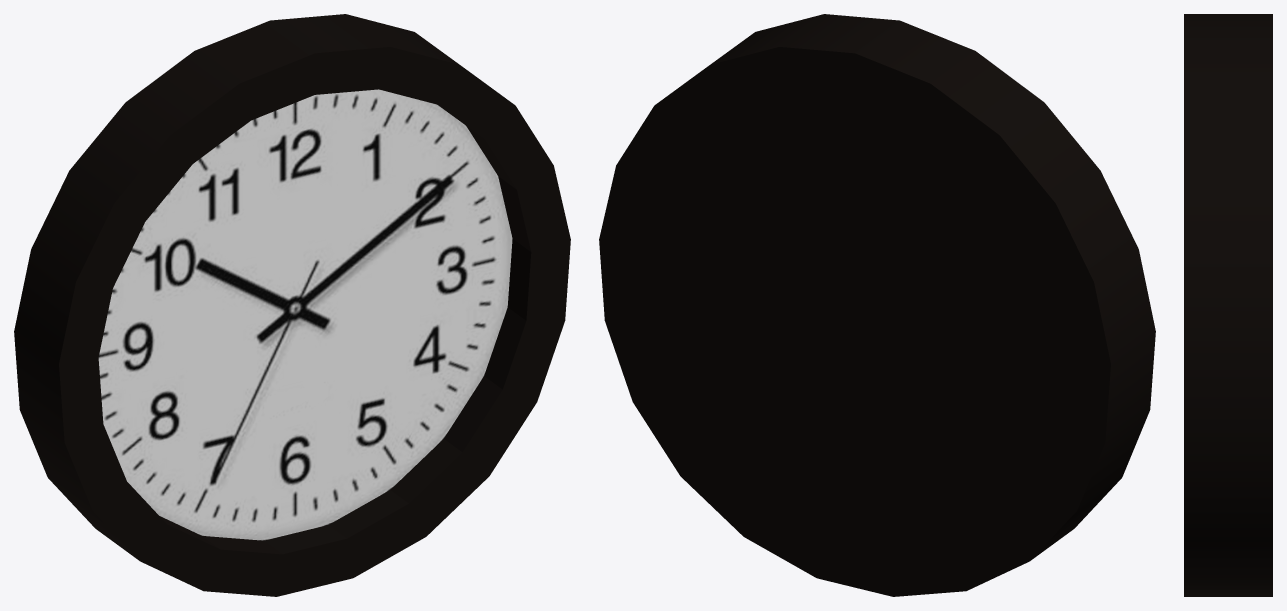
The model's file is Clock.FBX.
3 views of the same model, side by side, from view 1: azimuth 30°, elevation 25°; view 2: azimuth 150°, elevation 25°; view 3: azimuth 270°, elevation 25° (orthographic).
Visible parts, largest first — view 1: Clock; view 2: Clock; view 3: Clock.
Boxes of the visible parts, x1,y1,x2,y2 form: Clock: [14, 14, 570, 596]; Clock: [599, 14, 1155, 596]; Clock: [1184, 14, 1272, 596].
Bounding box in the file's own units: 41.56 × 41.44 × 6.31.
Materials: 1 (1 with a texture image).
